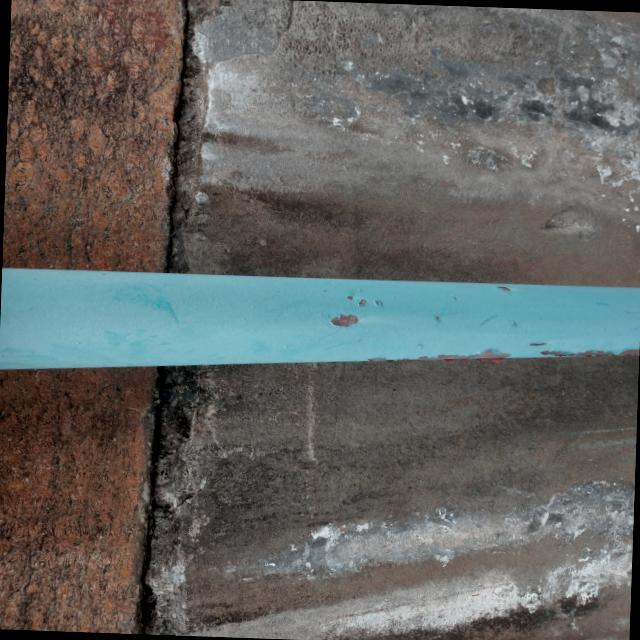gas: (0, 267, 640, 367)
